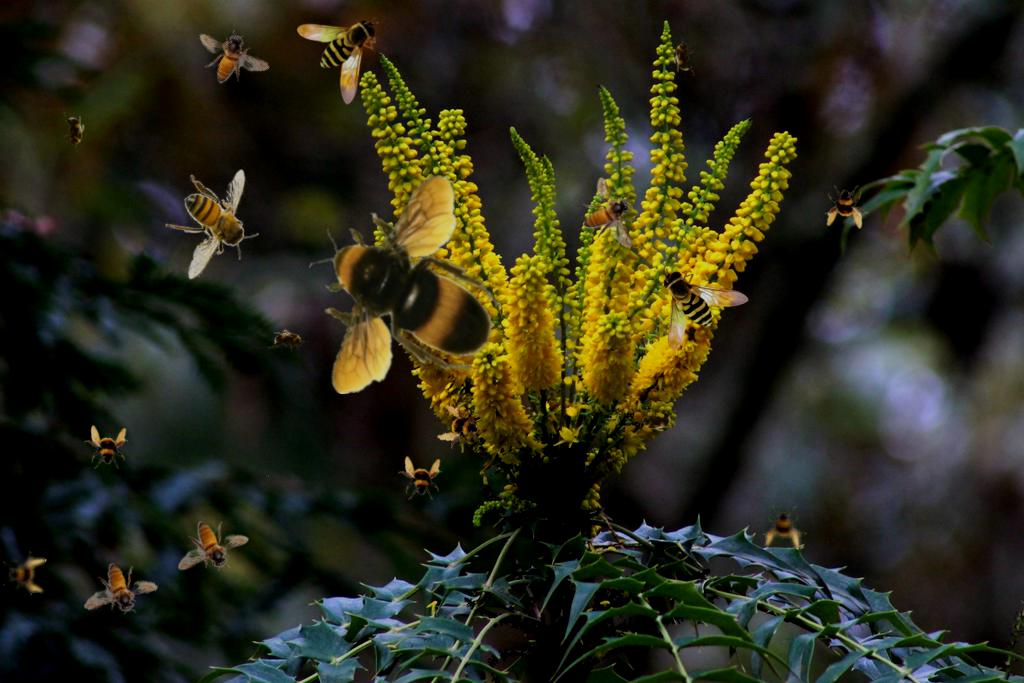Bee: (309, 174, 500, 394), (165, 169, 259, 280), (186, 13, 272, 100), (661, 268, 749, 350), (297, 17, 379, 105), (83, 560, 161, 619), (583, 177, 633, 248), (178, 521, 249, 571), (435, 402, 487, 454), (825, 185, 869, 229), (763, 506, 807, 550), (3, 551, 47, 595), (398, 456, 442, 500), (84, 425, 128, 469), (267, 327, 311, 355), (673, 36, 695, 76), (636, 410, 676, 432), (63, 112, 85, 152)
